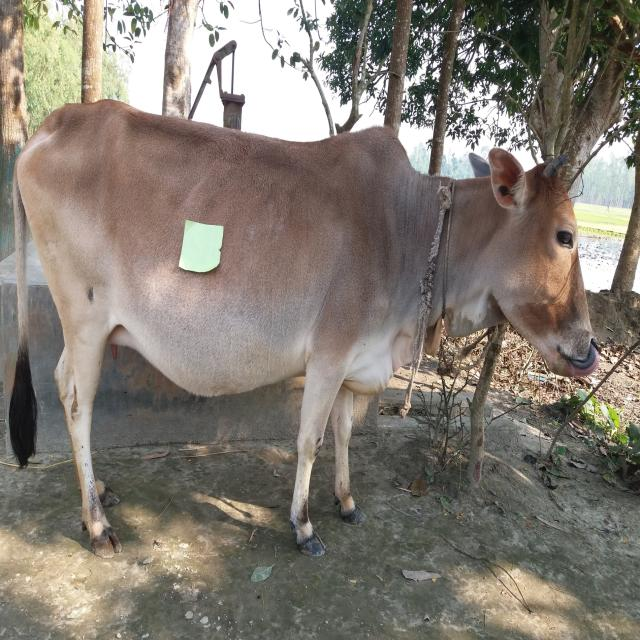badan_sapi: (49, 110, 358, 382)
sapi: (0, 93, 603, 563)
